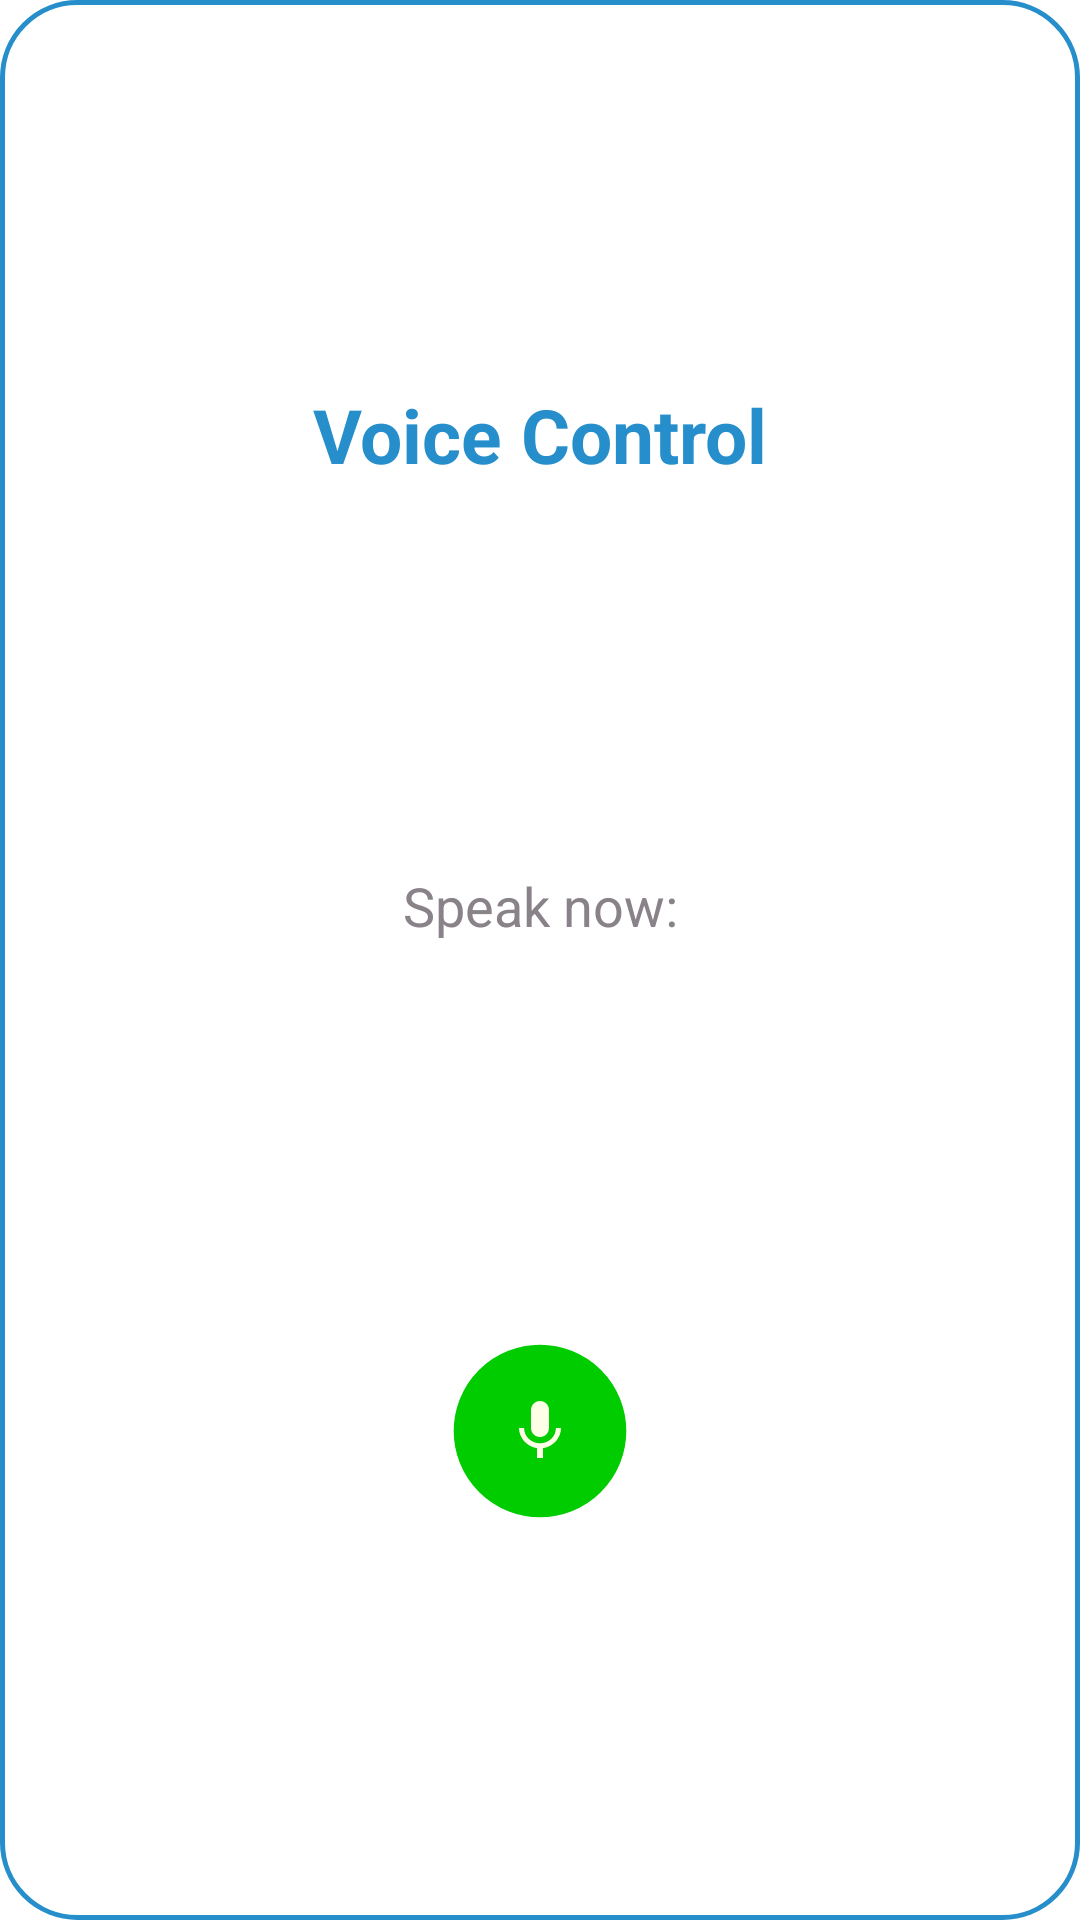

Locate icon controls on the screen. Image size 1080 × 1920, boxes as [left=x1, top=y1, right=x2, bottom=y2].
Speak: [left=453, top=1344, right=627, bottom=1518]
